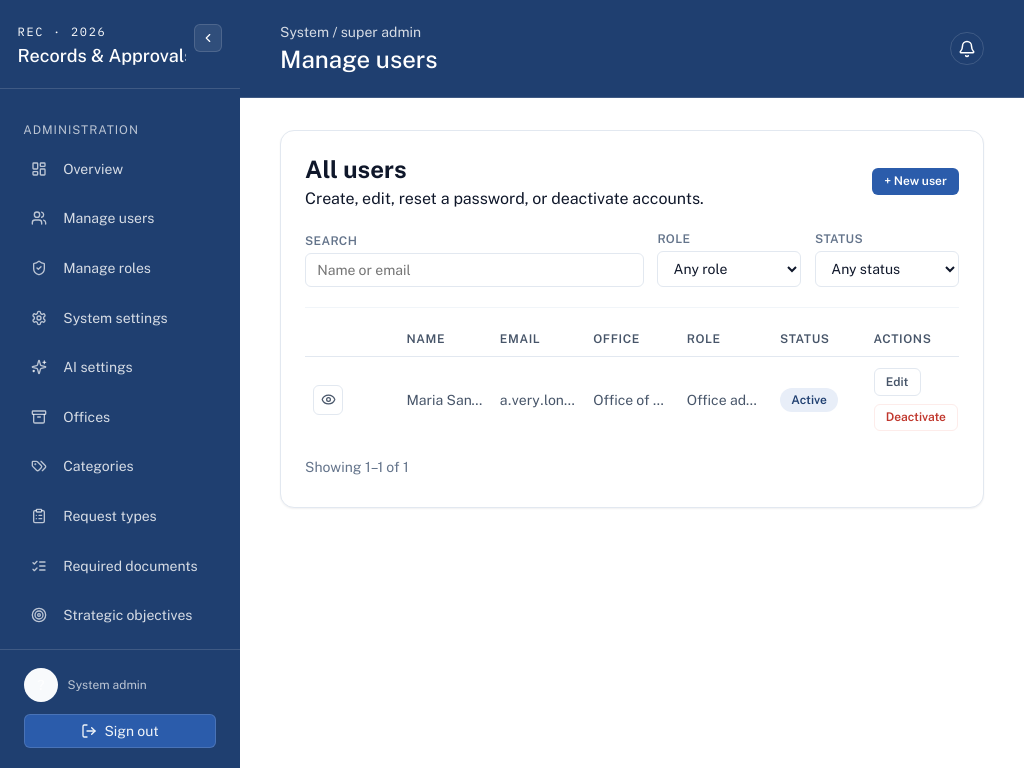
Scenario: ManageUsers — full user detail modal › opens a detail modal with the complete record when the row icon is clicked, and closes it
Expected: the text "Maria Santos" is shown, x1=398 y1=356 x2=492 y2=442
What coordinates should you click on to do the following:
click the button named "view full details for maria santos"
I would click on:
 (328, 400)
Its box is x1=313 y1=384 x2=343 y2=415.
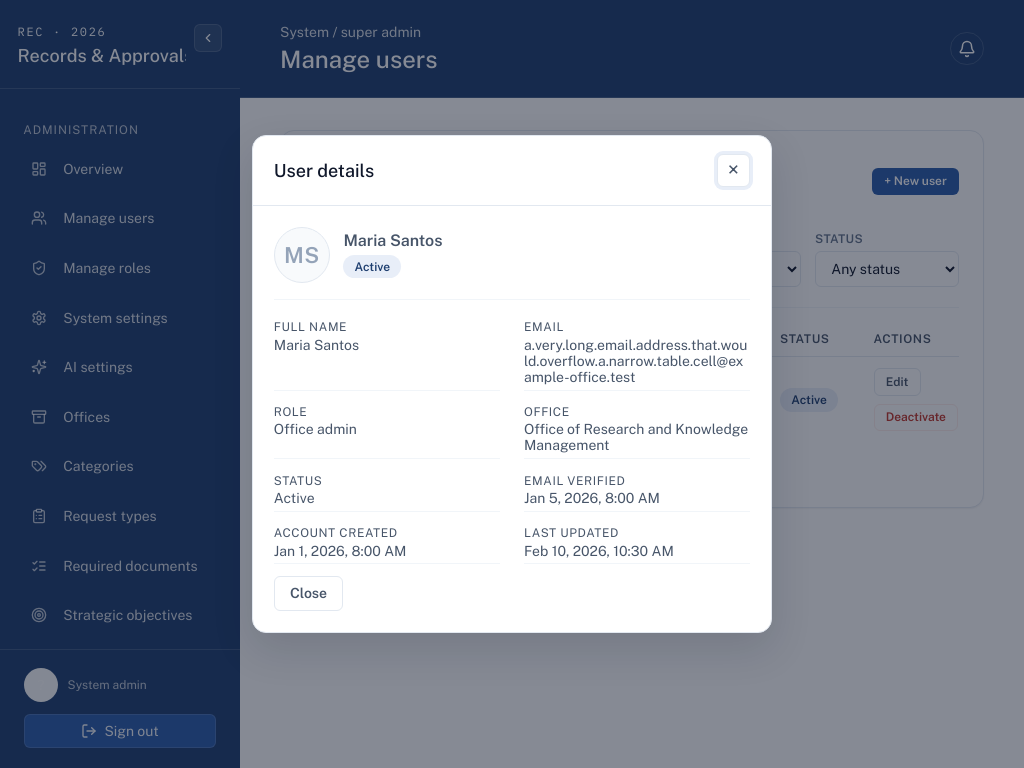
Now the text "a.very.long.email.address.that.would.overflow.a.narrow.table.cell@example-office.test" is shown, box x1=524 y1=337 x2=747 y2=385
Now the text "Office admin" is shown, box x1=274 y1=421 x2=357 y2=437
Now the text "Office of Research and Knowledge Management" is shown, box x1=524 y1=421 x2=750 y2=453
What coordinates should you click on to do the following:
click the button "Close"
I would click on:
 (309, 594)
Its box is x1=274 y1=576 x2=343 y2=611.
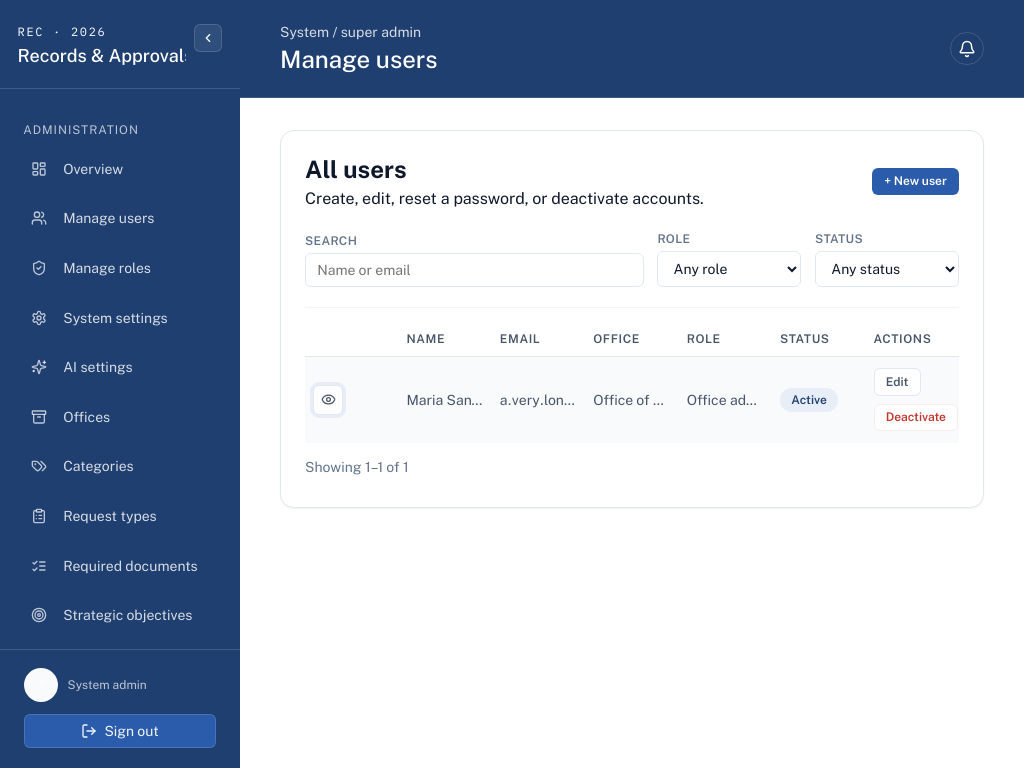
Now the heading "User details" is gone
